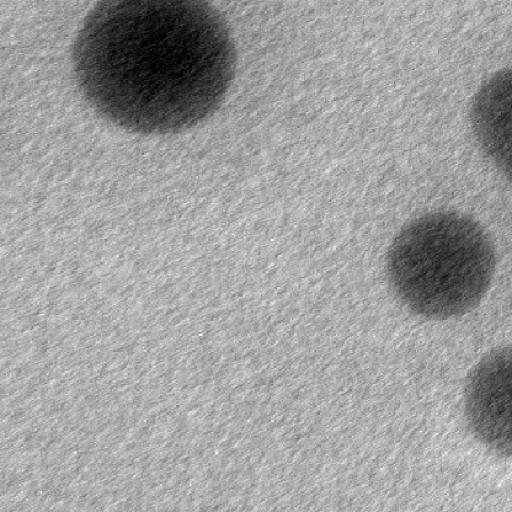Nanoparticles: (72, 1, 238, 132), (385, 211, 489, 315), (467, 346, 511, 446), (472, 66, 512, 174)
